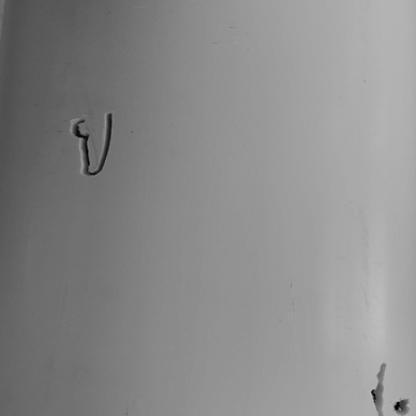fengxi: (72, 106, 117, 174)
kongdong: (361, 355, 394, 416), (390, 395, 412, 415)
